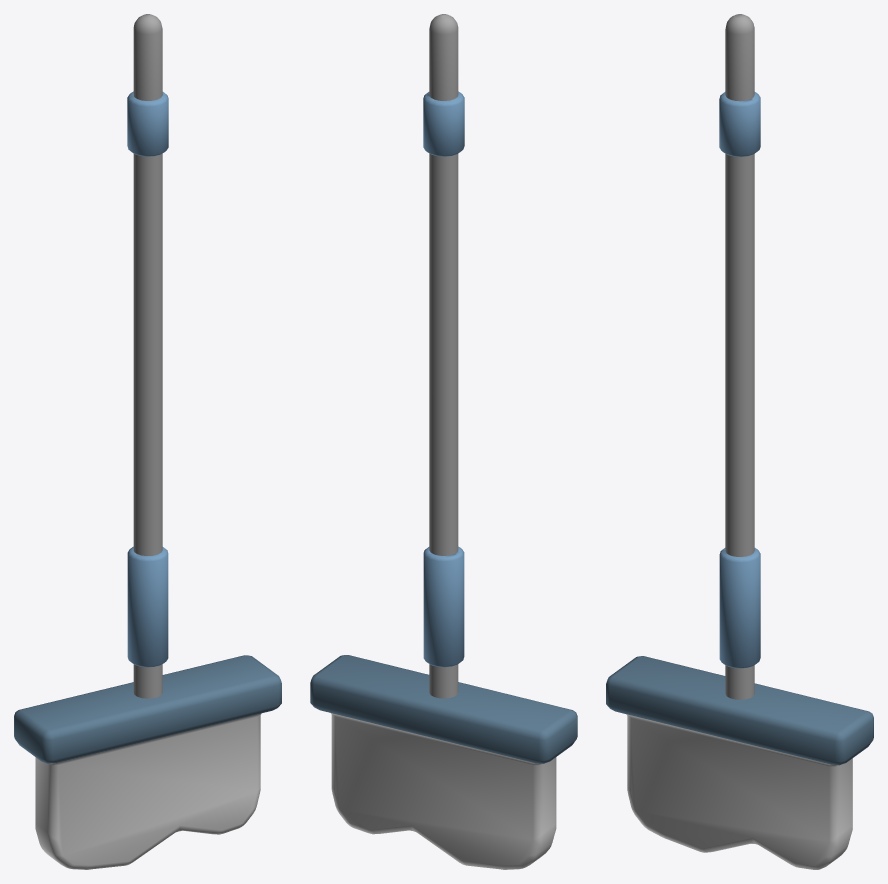
The model's file is Tool_Mop.glb.
The picture shows the model from 3 angles, left to right: view 1: azimuth 30°, elevation 25°; view 2: azimuth 150°, elevation 25°; view 3: azimuth 330°, elevation 25°; orthographic projection.
Parts seen in each view (by area): view 1: Tool_Mop, Tool_Mop_Handle; view 2: Tool_Mop, Tool_Mop_Handle; view 3: Tool_Mop, Tool_Mop_Handle.
Part boxes in pixels (x1,y1,x2,y2): Tool_Mop: (14,655,281,869); Tool_Mop_Handle: (127,14,168,698); Tool_Mop: (310,655,577,869); Tool_Mop_Handle: (423,14,464,698); Tool_Mop: (606,656,873,869); Tool_Mop_Handle: (719,14,760,699).
Size of the model in its own units: 0.5618 by 1.88 by 0.145.
Materials: 2 (2 with a texture image).
